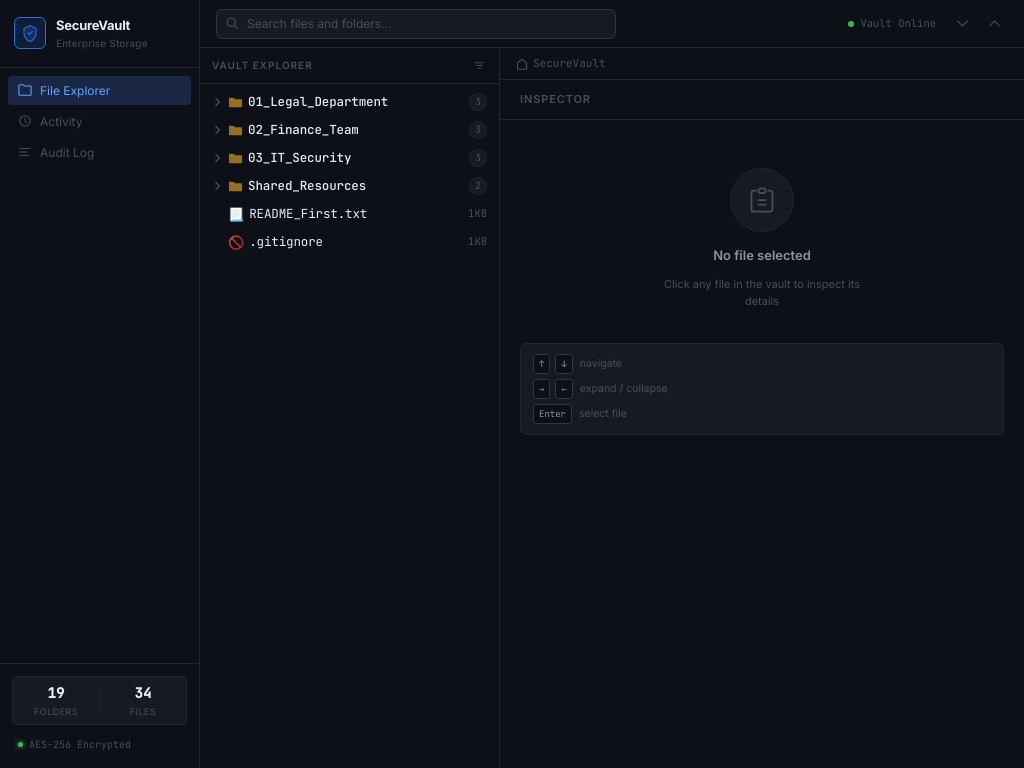
SecureVault explorer interactions › filters recursively, keeps matching parents, and clears the search
Type "summary_draft" into the field with placeholder "Search files and folders...". click: (416, 24)
box: [216,8,616,38]
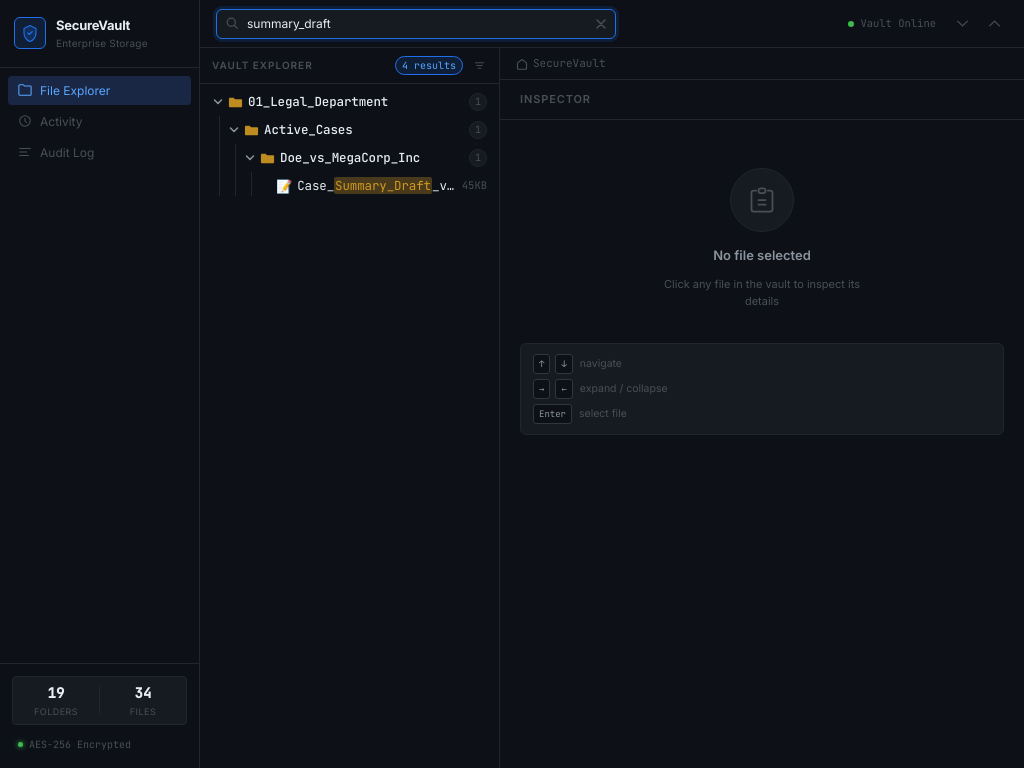
Expected: the text "01_Legal_Department" is shown, [248,93,388,110]
Now the text "Summary_Draft" is shown, box [334,177,432,194]
Clear the field with placeholder "Search files and folders...". click: (416, 24)
box: [216,8,616,38]
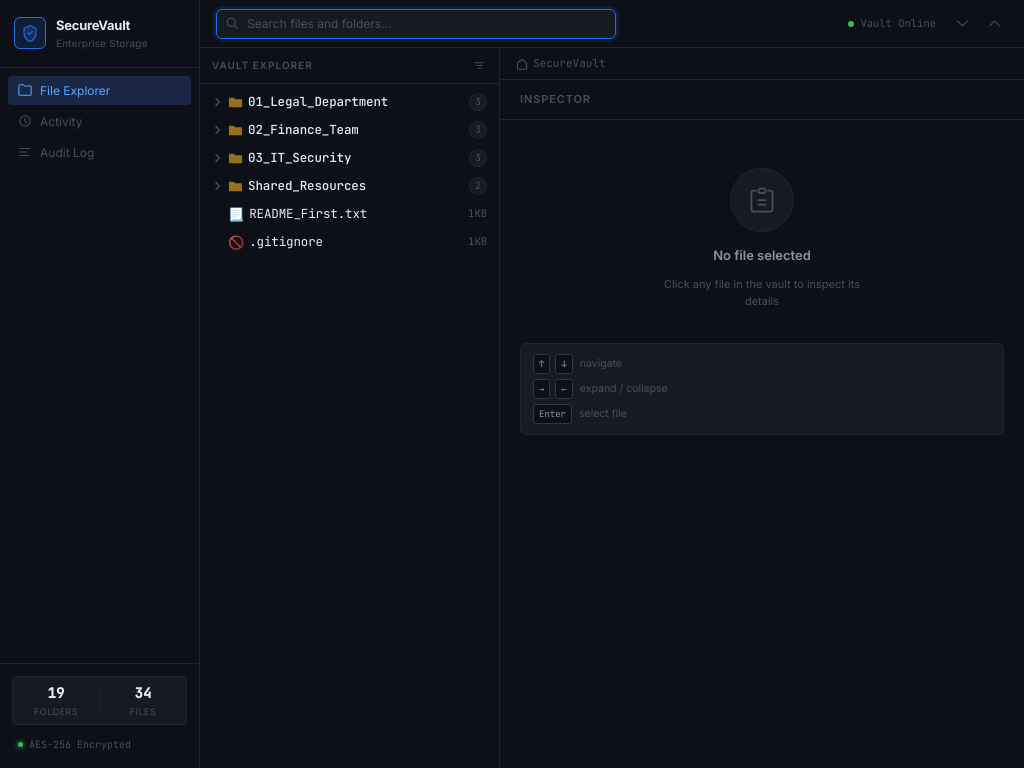
Now the text "02_Finance_Team" is shown, box [248,121,359,138]
